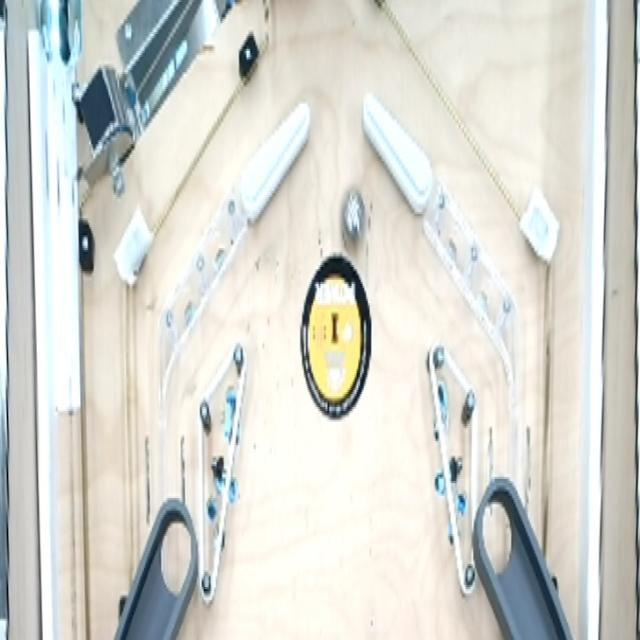ball: (336, 181, 372, 255)
flipper-left: (358, 85, 444, 221)
flipper-right: (238, 95, 312, 227)
